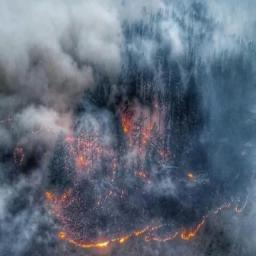Heavy smoke: (0, 0, 156, 255)
Medium fire: (30, 88, 253, 256)
